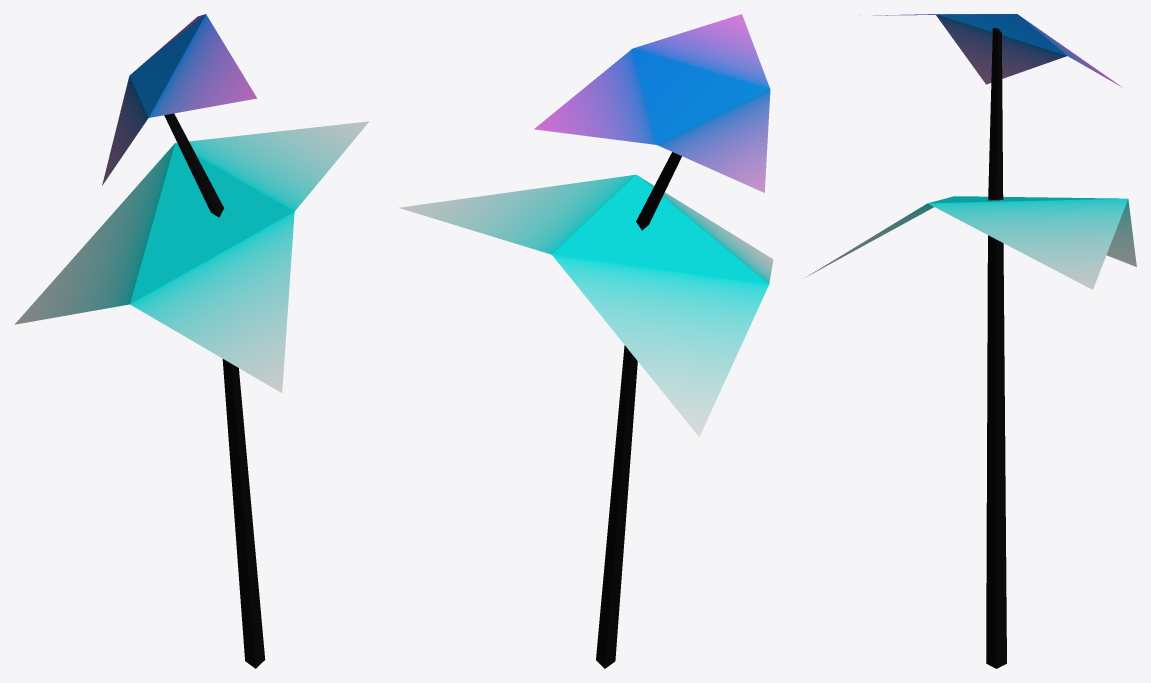
File: trillium_ovatum_lp.dae
The picture shows the model from 3 angles, left to right: view 1: azimuth 30°, elevation 25°; view 2: azimuth 150°, elevation 25°; view 3: azimuth 270°, elevation 25°; orthographic projection. The views are drawn at different scales.
Visible parts, largest first — view 1: trillium8; view 2: trillium8; view 3: trillium8.
Part boxes in pixels (x1=…): trillium8: x1=15, y1=14, x2=369, y2=668; trillium8: x1=399, y1=14, x2=773, y2=668; trillium8: x1=803, y1=14, x2=1136, y2=668.
Size of the model in its own units: 0.2057 by 0.1843 by 0.3848.
